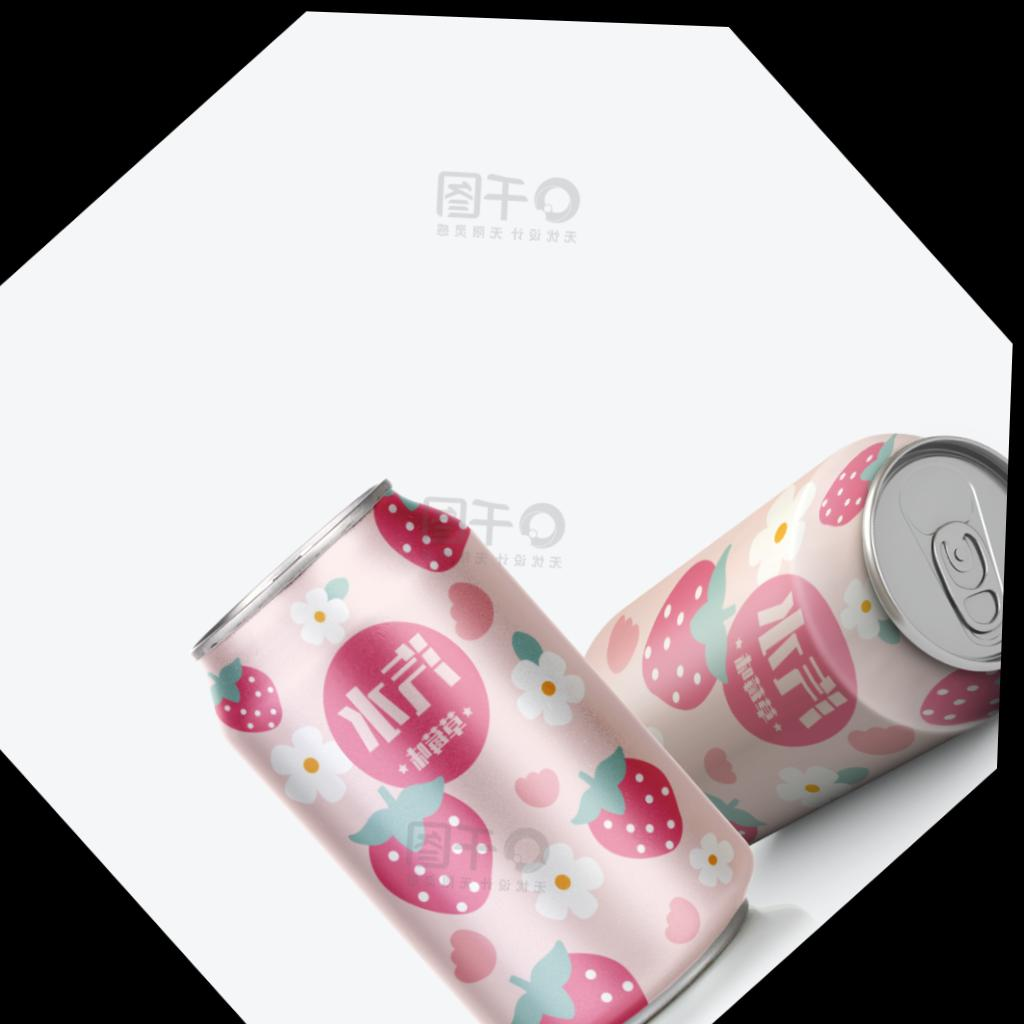metal: (192, 479, 752, 1024), (587, 434, 1008, 840)
